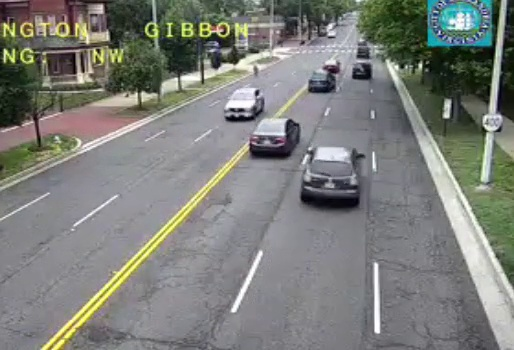car: (302, 146, 360, 200), (250, 119, 301, 153), (308, 71, 334, 90), (352, 62, 372, 79)
